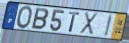5: (49, 9, 66, 33)
B: (30, 7, 49, 32)
I: (103, 13, 114, 38)
O: (15, 5, 34, 31)
T: (68, 11, 81, 34)
X: (79, 12, 99, 37)
